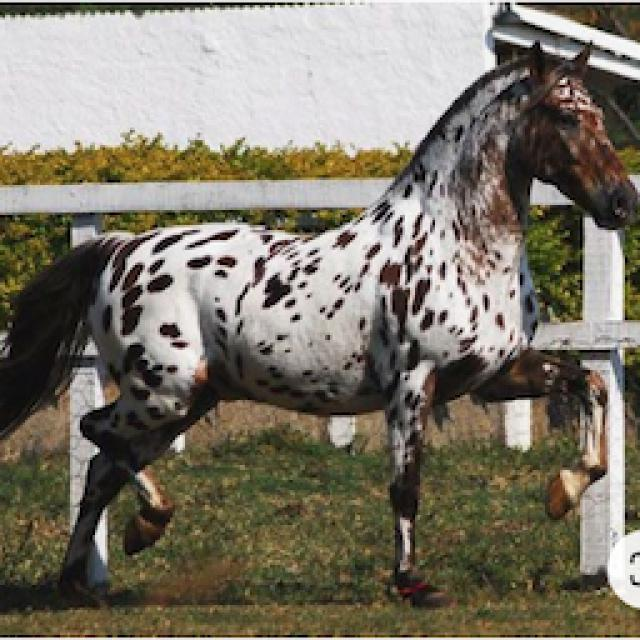Horse: (0, 35, 638, 613)
